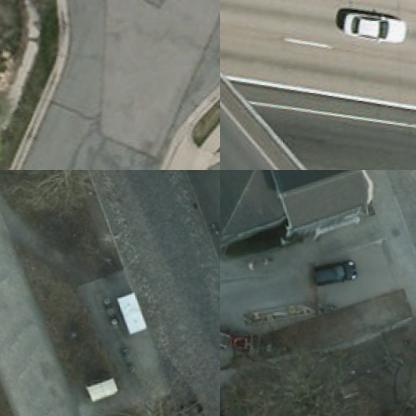car: (335, 0, 406, 45), (308, 261, 356, 289), (177, 402, 216, 415)
